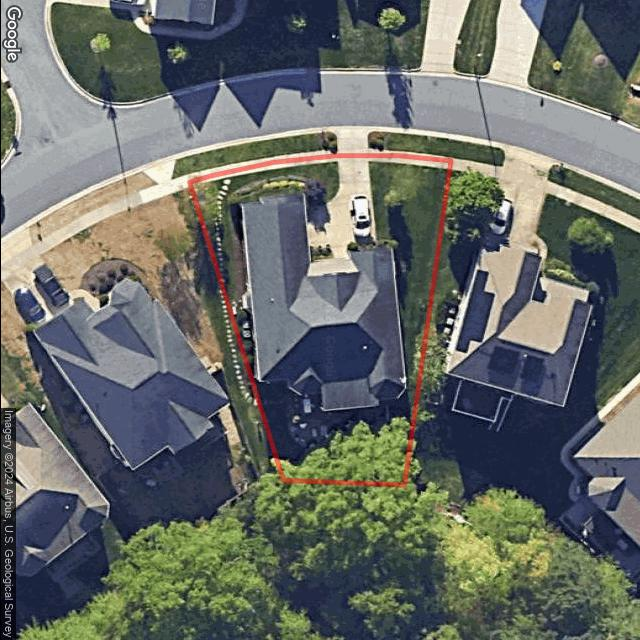Driveway: (305, 156, 375, 261)
Extra-Driveway: (330, 131, 369, 157)
Extra-Lawn: (188, 183, 283, 481), (183, 131, 337, 174), (366, 132, 454, 157)
Extra-Sidewalk: (186, 150, 337, 182), (367, 148, 451, 160)
House: (236, 191, 407, 412)
Lawn: (189, 155, 450, 485)
Other: (224, 175, 408, 447)
Sidewalk: (187, 155, 337, 188), (367, 154, 450, 169)
